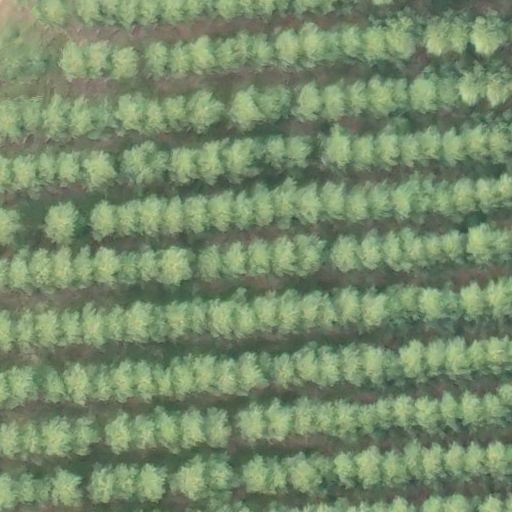eucalipto: (416, 280, 462, 331), (41, 198, 87, 245), (282, 447, 325, 496), (186, 85, 227, 136), (365, 72, 411, 116), (80, 150, 122, 195), (67, 409, 101, 461), (233, 401, 273, 445), (293, 230, 328, 280), (315, 126, 352, 173), (234, 351, 269, 399), (176, 404, 210, 453), (395, 340, 432, 385), (292, 77, 325, 127), (406, 71, 441, 118), (229, 85, 264, 132), (135, 464, 173, 507), (60, 36, 94, 84), (456, 64, 490, 111), (327, 231, 364, 274), (61, 360, 94, 408), (36, 361, 69, 409), (157, 246, 194, 288), (105, 40, 142, 82), (6, 363, 39, 410), (458, 277, 489, 327), (225, 139, 261, 182), (353, 444, 385, 492), (293, 178, 324, 227), (381, 444, 413, 491), (122, 298, 153, 346), (464, 220, 495, 268), (359, 287, 392, 332), (87, 461, 119, 507), (115, 91, 145, 140), (371, 124, 401, 173), (290, 342, 323, 386), (255, 131, 288, 175), (239, 453, 272, 497), (295, 23, 327, 68), (40, 414, 72, 459), (105, 410, 140, 451), (255, 289, 283, 340), (359, 341, 389, 388), (76, 302, 107, 347), (272, 27, 302, 73), (278, 285, 305, 336), (216, 34, 248, 77), (91, 245, 120, 292), (35, 309, 68, 350), (87, 201, 120, 242), (186, 35, 219, 76), (194, 138, 222, 186), (244, 32, 275, 75), (168, 146, 199, 189), (393, 175, 419, 226), (182, 193, 212, 237), (340, 73, 368, 120), (337, 340, 365, 387), (137, 195, 166, 240), (250, 182, 277, 230), (365, 180, 395, 223), (343, 181, 370, 228), (206, 295, 234, 340), (142, 40, 172, 82), (460, 123, 490, 165), (358, 228, 385, 274), (223, 239, 250, 285), (416, 125, 443, 171), (246, 236, 274, 280), (195, 242, 225, 283), (70, 245, 96, 292), (184, 292, 211, 337), (420, 440, 446, 486), (292, 395, 319, 439), (163, 298, 189, 343), (232, 188, 258, 232), (332, 399, 359, 440), (437, 391, 461, 437), (445, 438, 469, 483), (441, 229, 467, 270), (194, 352, 218, 396), (458, 392, 482, 435), (86, 42, 111, 83), (56, 148, 81, 189), (31, 247, 54, 291), (392, 390, 415, 433), (151, 361, 175, 401), (482, 388, 505, 428), (146, 92, 167, 135), (105, 305, 127, 346), (137, 247, 159, 284), (469, 340, 489, 375)
